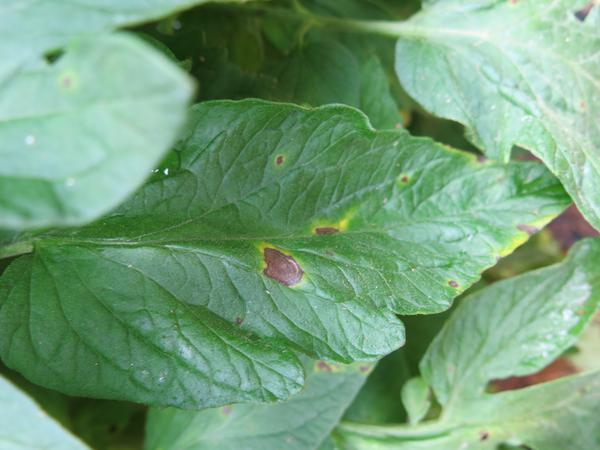Tomato Early blight leaf: (16, 79, 600, 296)
